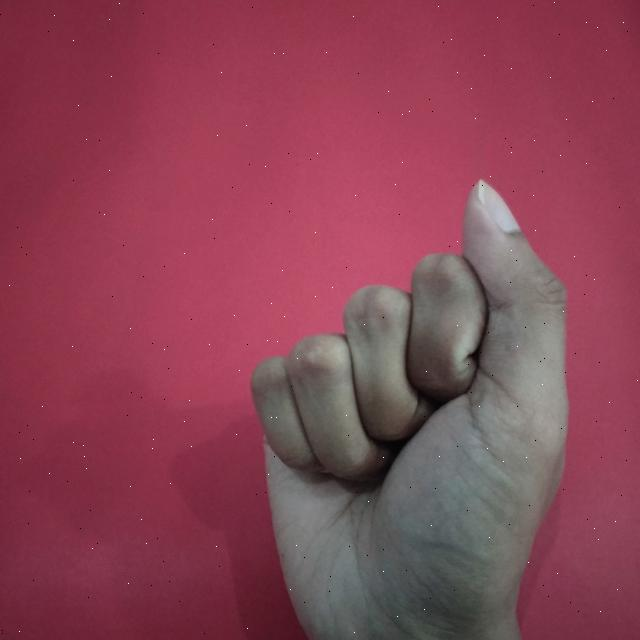A: (232, 160, 584, 640)
